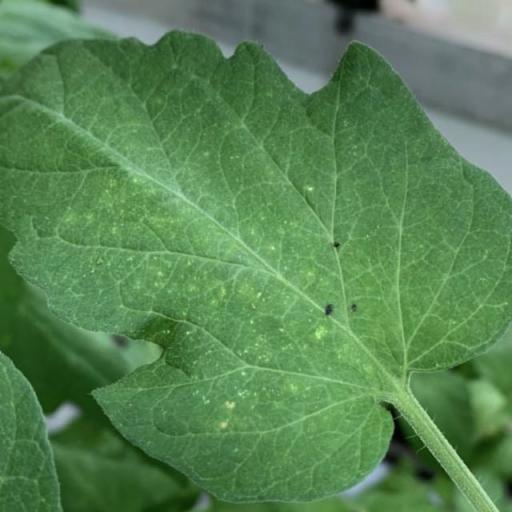disease_tomato: (0, 27, 512, 512)
